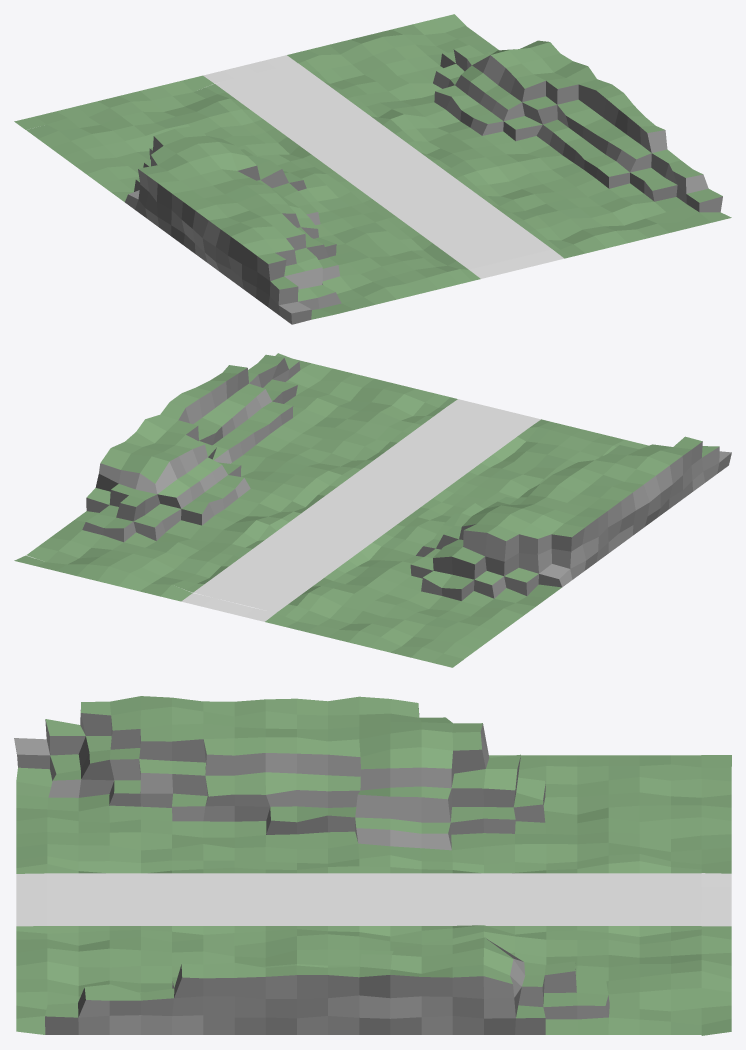
File: orman.fbx
3 renders of one model, top to bottom at view 1: azimuth 30°, elevation 25°; view 2: azimuth 150°, elevation 25°; view 3: azimuth 270°, elevation 25°, orthographic. The views are drawn at different scales.
Parts seen in each view (by area): view 1: Plane; view 2: Plane; view 3: Plane.
Boxes of the visible parts, x1,y1,x2,y2 form: Plane: [14, 14, 731, 324]; Plane: [14, 353, 731, 667]; Plane: [14, 696, 731, 1035].
Bounding box in the file's own units: 1622 × 197 × 1752.
